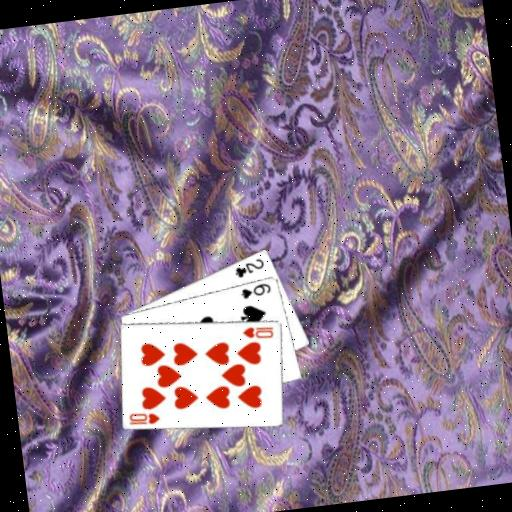10H: (239, 321, 276, 343), (126, 407, 163, 428)
2C: (231, 255, 267, 280)
6S: (237, 280, 273, 301)
